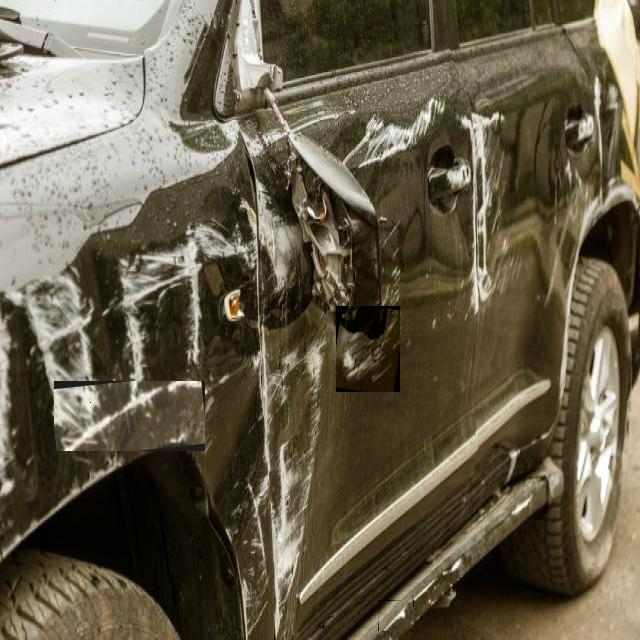Dent: (54, 381, 205, 451), (336, 306, 400, 392), (378, 600, 414, 631), (346, 348, 358, 370)
